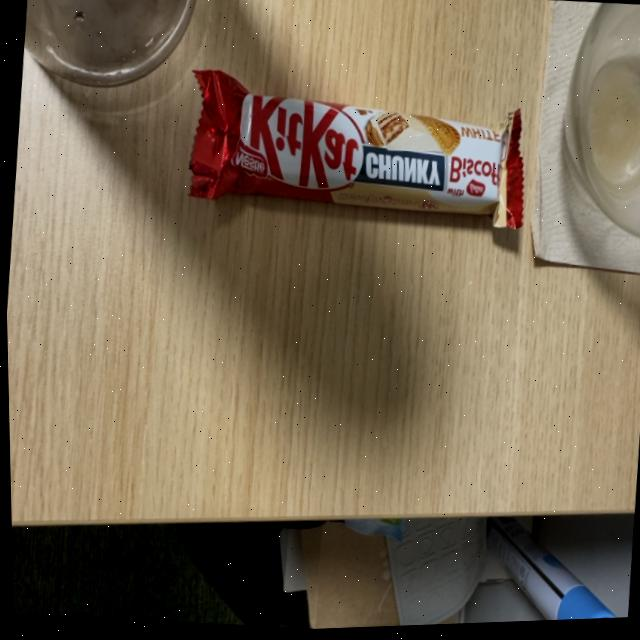chocolate: (173, 51, 537, 252)
